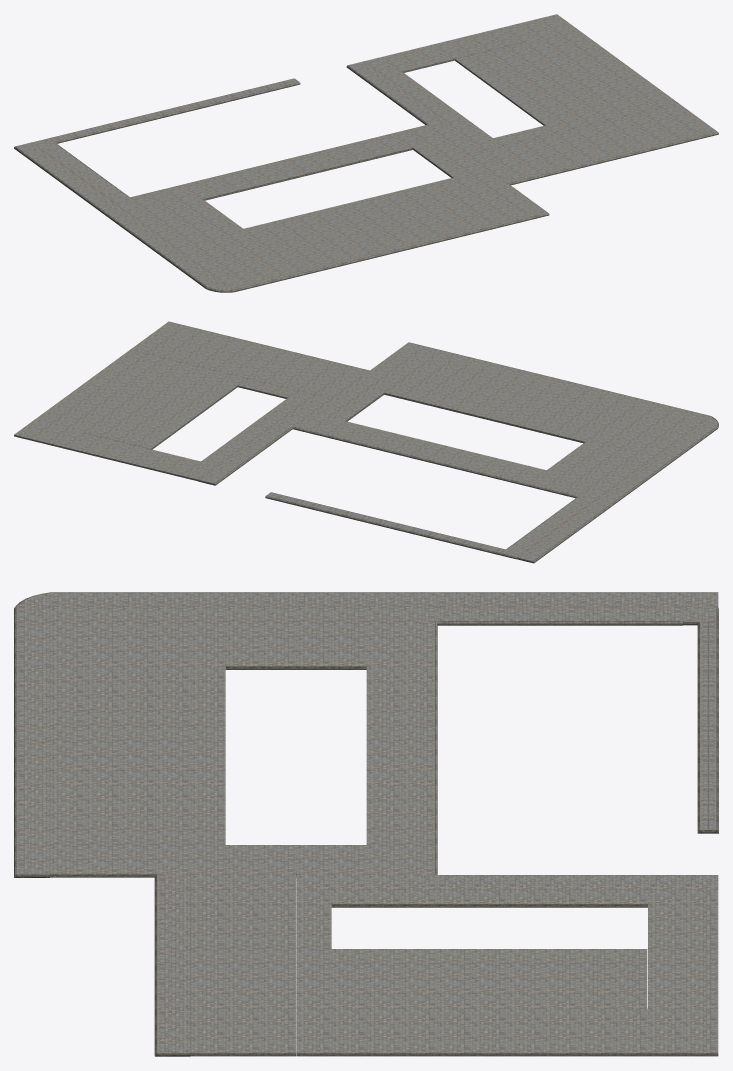
The model's file is Area1Pavement1.fbx.
The picture shows the model from 3 angles, top to bottom: view 1: azimuth 30°, elevation 25°; view 2: azimuth 150°, elevation 25°; view 3: azimuth 270°, elevation 25°; orthographic projection. The views are drawn at different scales.
Visible parts, largest first — view 1: Area1Pavement1; view 2: Area1Pavement1; view 3: Area1Pavement1.
Boxes of the visible parts, bbox=[...] form: Area1Pavement1: bbox=[14, 14, 718, 292]; Area1Pavement1: bbox=[14, 321, 718, 563]; Area1Pavement1: bbox=[14, 592, 718, 1056].
Bounding box in the file's own units: 3970 × 13.59 × 2565.
